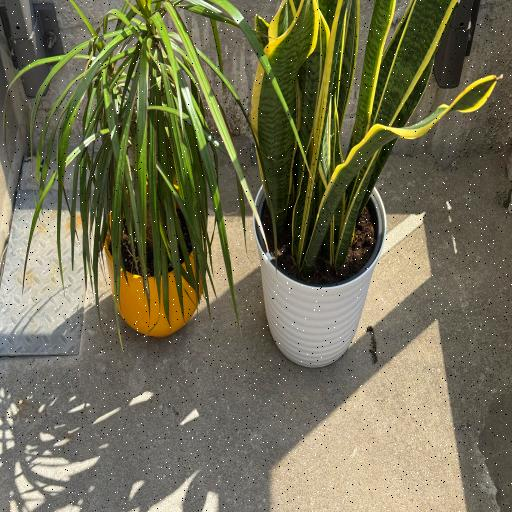Plant Pot: (252, 177, 386, 369), (104, 182, 204, 338)
